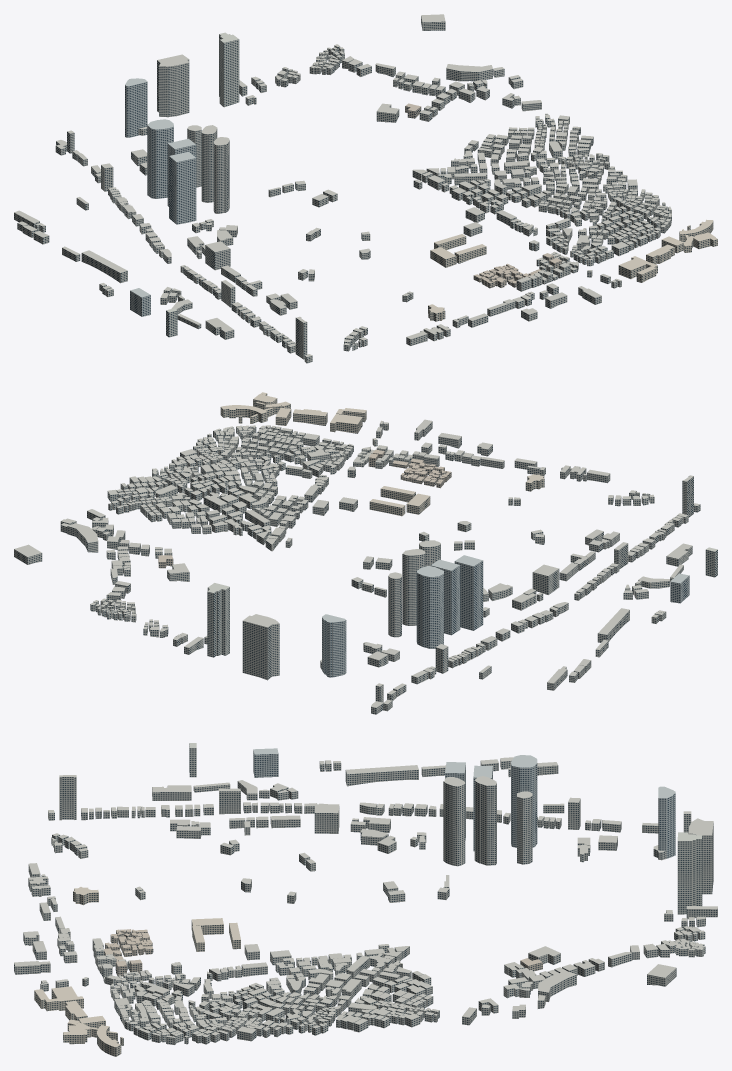
The model's file is city_-4_-1.glb.
3 renders of one model, top to bottom at view 1: azimuth 30°, elevation 25°; view 2: azimuth 150°, elevation 25°; view 3: azimuth 270°, elevation 25°, orthographic. The views are drawn at different scales.
Size of the model in its own units: 1044 by 154 by 1047.
5 materials, 5 textured.
